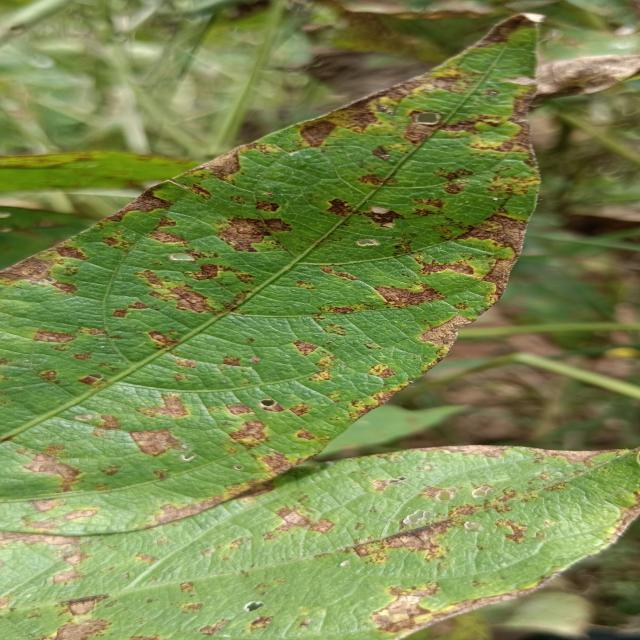Black gram_leaf spot: (0, 9, 573, 532)
